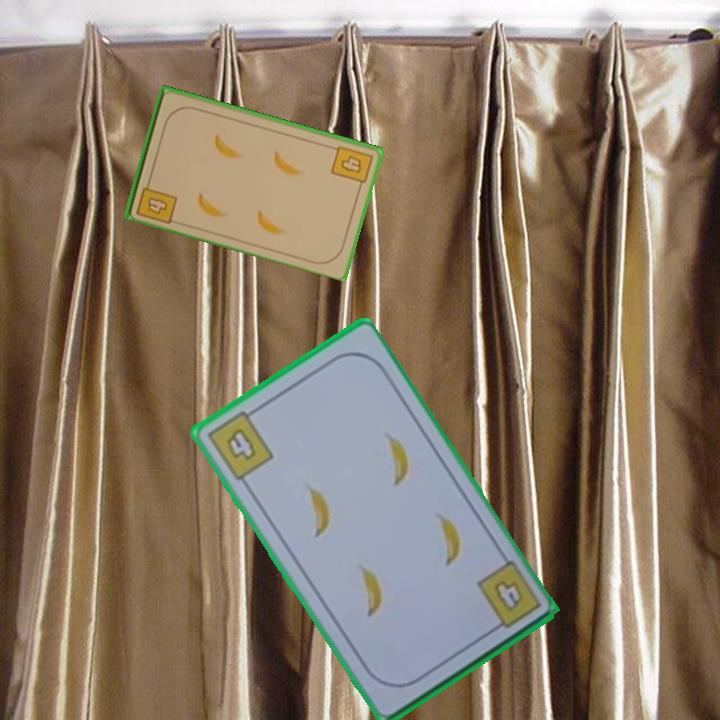4b: (203, 404, 277, 484), (472, 557, 544, 636), (327, 142, 376, 192), (133, 175, 180, 226)
